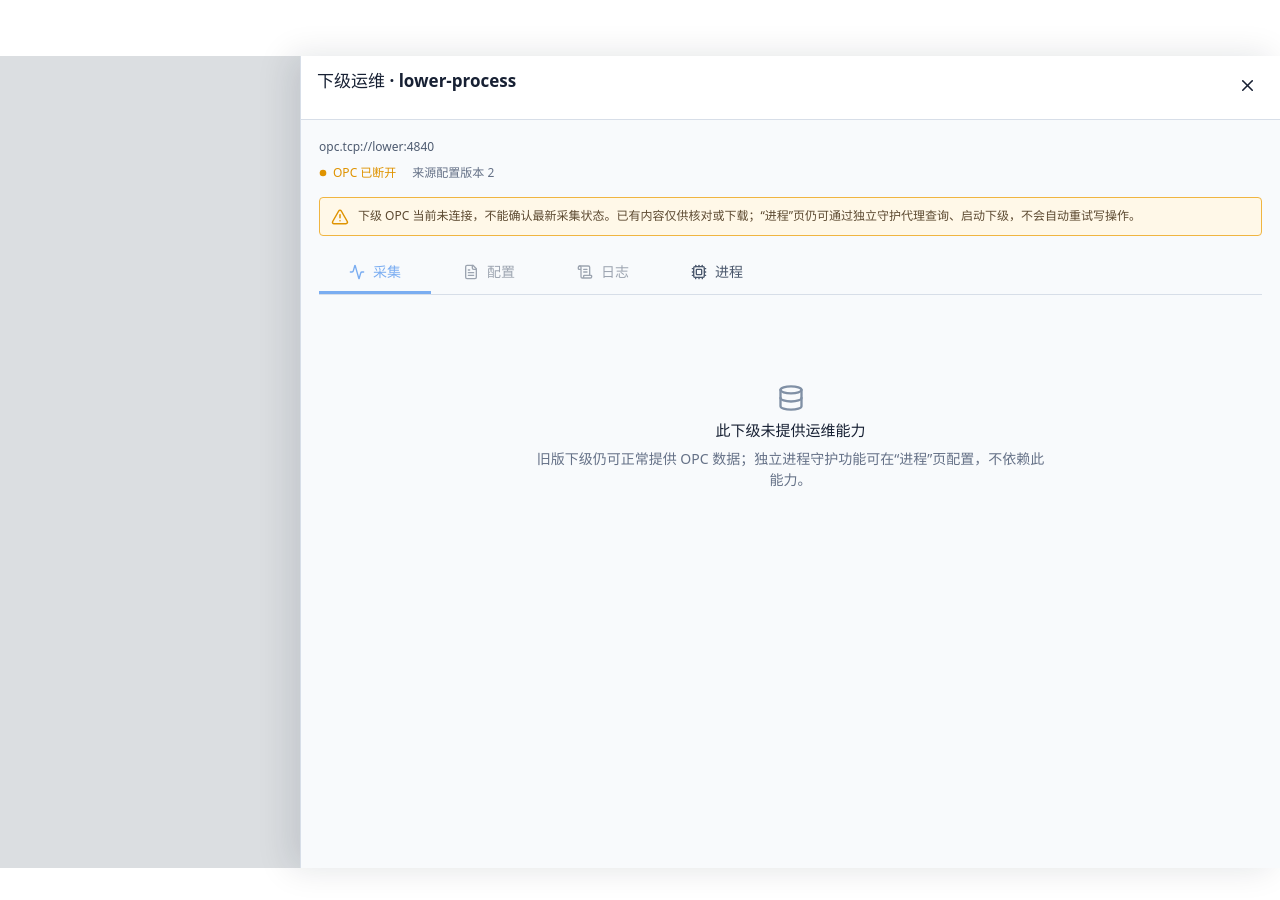
Test case: physical process management › can start through the independent process tab with OPC offline, disabled and unsupported
Expected: the text "此下级未提供运维能力" is shown, [716,419,866,441]
Click the tab "进程": point(717, 273) [661,252,773,294]
(page scrolled)
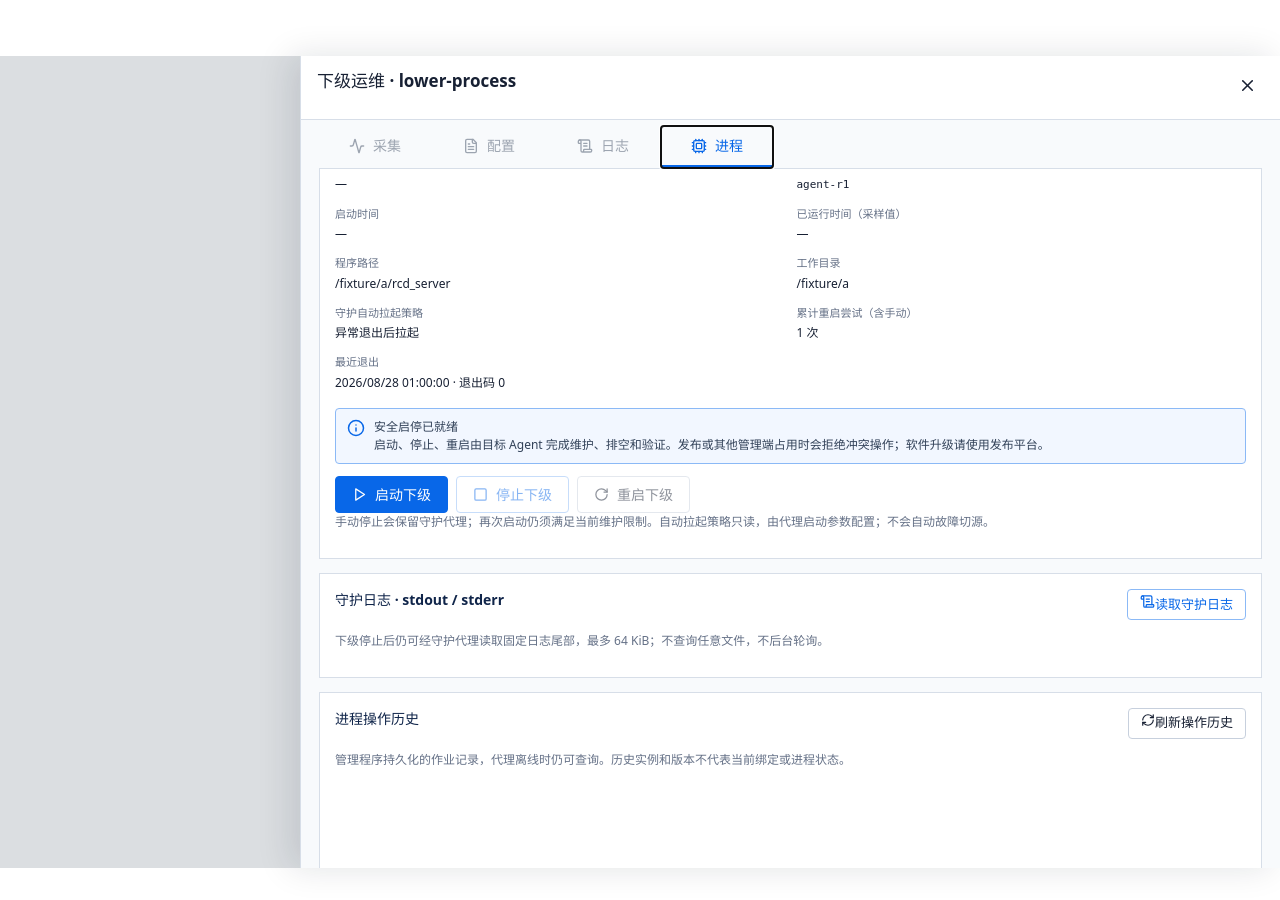
Click the button "启动下级": point(392, 494) [335,476,448,512]
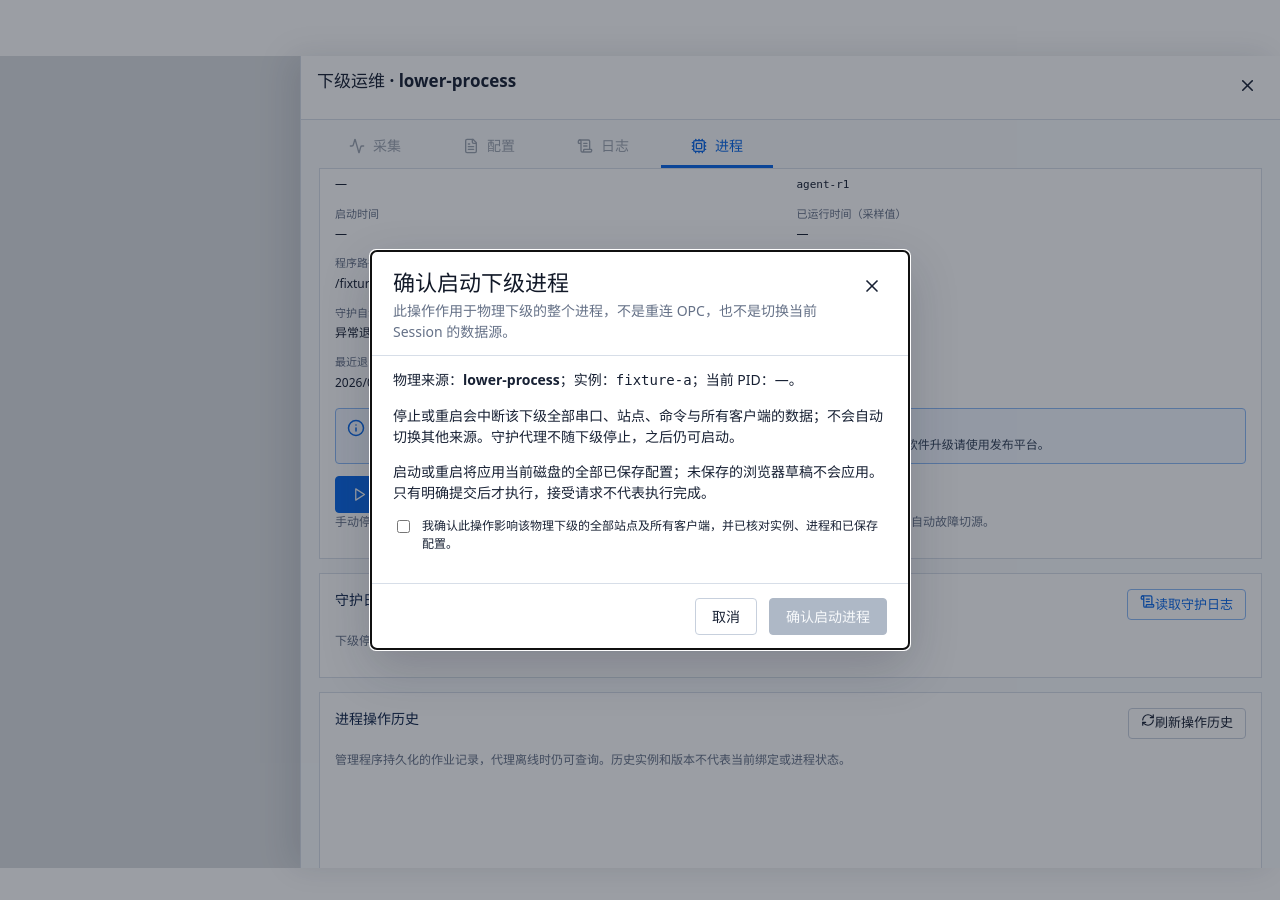
Click the checkbox labelled "我确认此操作影响该物理下级的全部站点及所有客户端，并已核对实例、进程和已保存配置。": point(404, 527) [397,520,410,533]
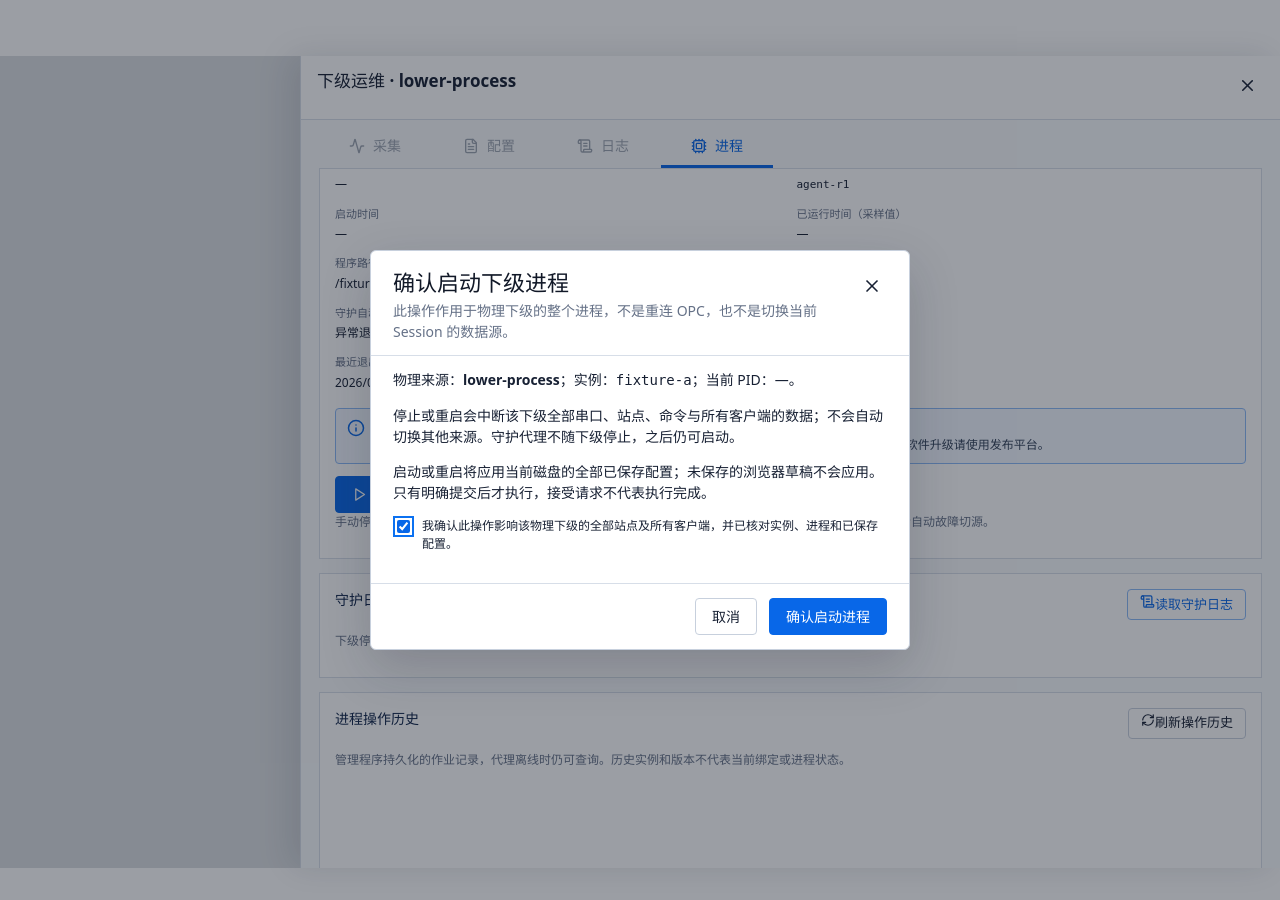
Click the button "确认启动进程": point(828, 617) [769,598,887,635]
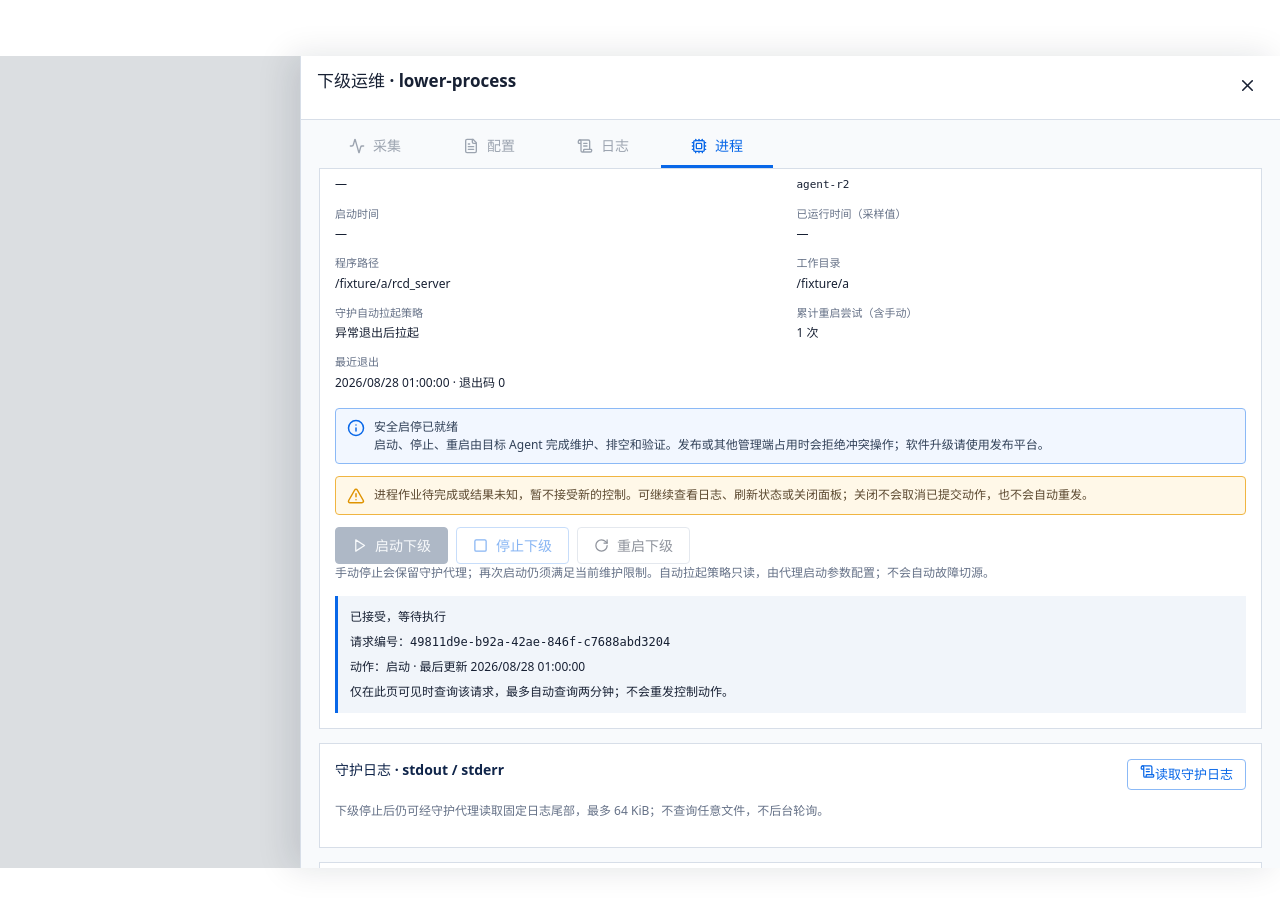
Expected: the text "已接受，等待执行" is shown, [350,608,446,624]
Expected: the button "启动下级" is disabled, [335,526,448,564]
